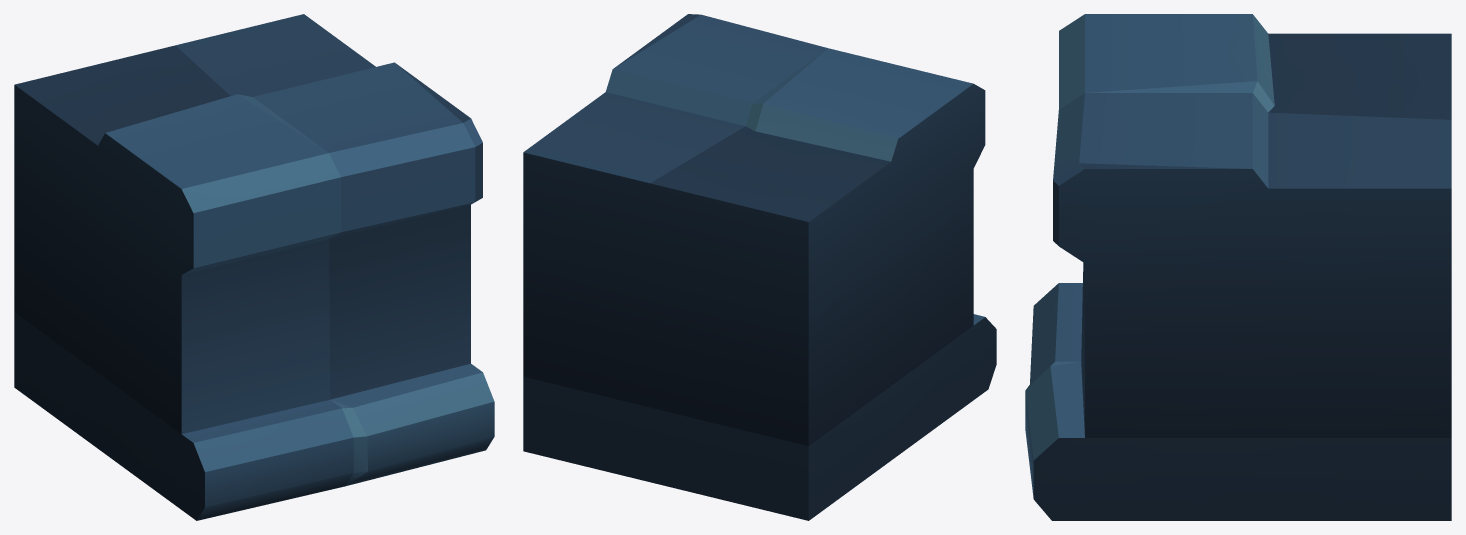
File: wall_small_1.fbx
The picture shows the model from 3 angles, left to right: view 1: azimuth 30°, elevation 25°; view 2: azimuth 150°, elevation 25°; view 3: azimuth 270°, elevation 25°; orthographic projection. The views are drawn at different scales.
Visible parts, largest first — view 1: wall_small_1; view 2: wall_small_1; view 3: wall_small_1.
Part boxes in pixels (x1,y1,x2,y2): wall_small_1: (14, 14, 494, 520); wall_small_1: (523, 14, 996, 520); wall_small_1: (1025, 14, 1451, 520).
Size of the model in its own units: 100 by 107 by 116.
